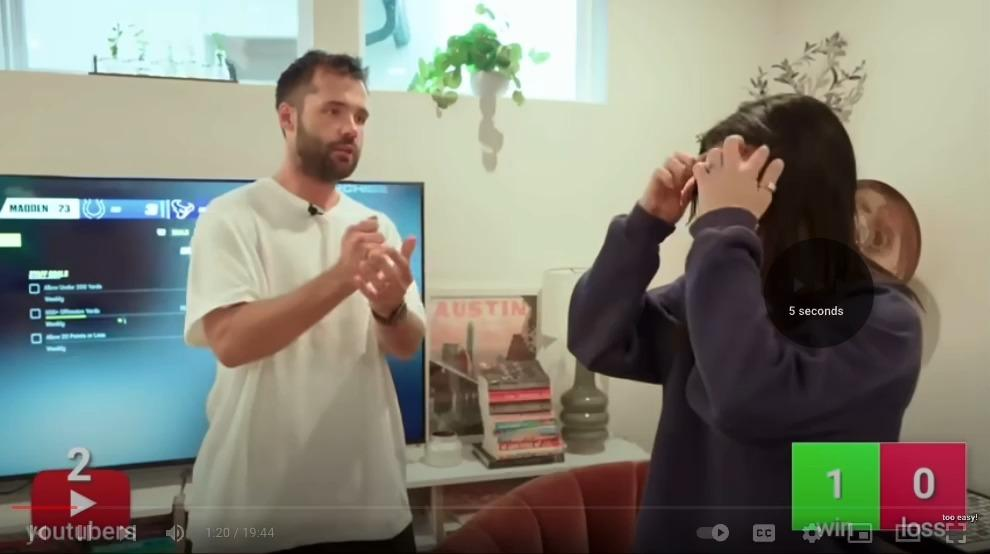Rock: (340, 215, 391, 294)
